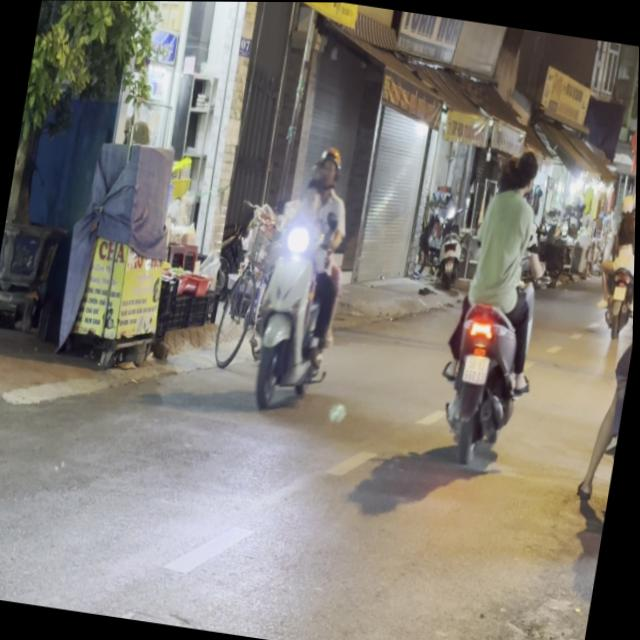helmet: (311, 142, 343, 192)
licenseplate: (427, 138, 567, 474), (239, 134, 366, 422), (572, 152, 637, 534)
motorcyclist: (510, 145, 541, 195)
nohelmet: (463, 352, 491, 383)
